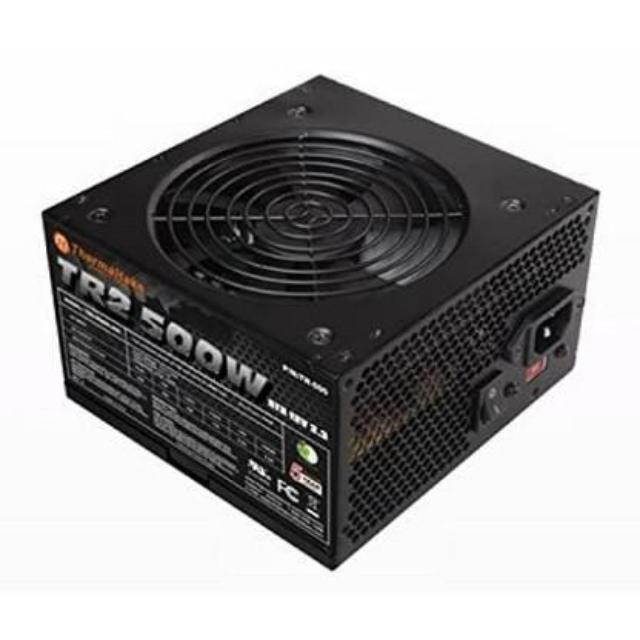PSU: (39, 70, 604, 564)
